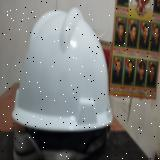Helmet: (12, 8, 113, 132)
